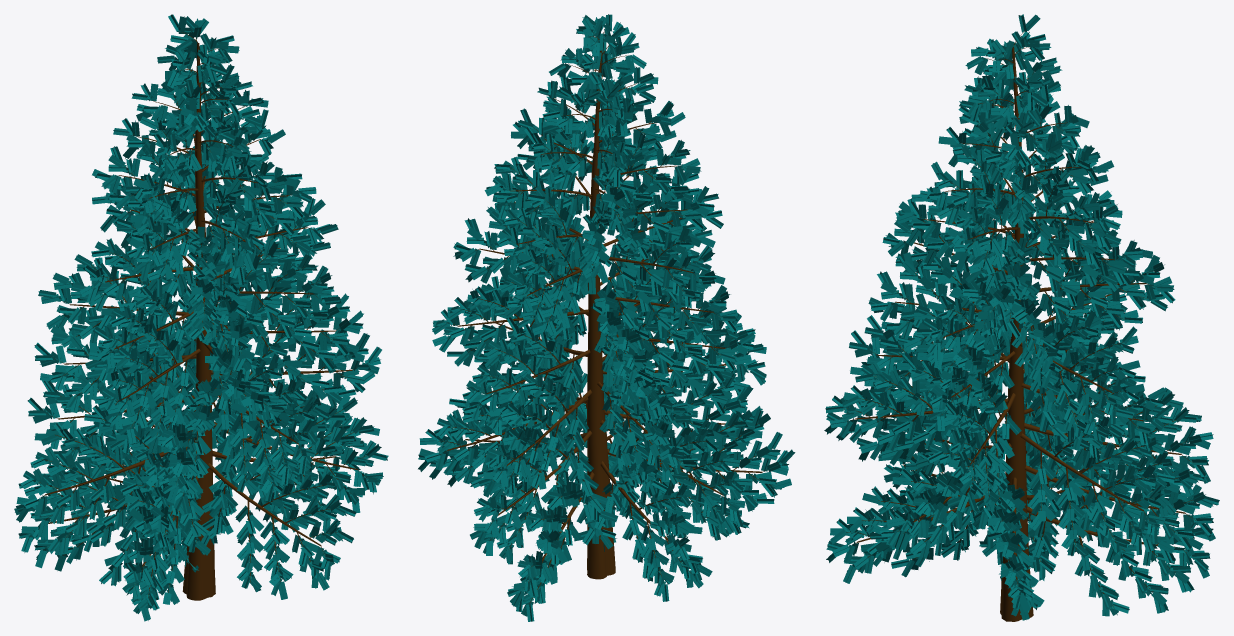
The model's file is Baum5 Neu.FBX.
The picture shows the model from 3 angles, left to right: view 1: azimuth 30°, elevation 25°; view 2: azimuth 150°, elevation 25°; view 3: azimuth 270°, elevation 25°; orthographic projection. The views are drawn at different scales.
Parts seen in each view (by area): view 1: Foliage003; view 2: Foliage003; view 3: Foliage003.
Boxes of the visible parts, left/top/right/bottom form: Foliage003: left=14, top=14, right=388, bottom=621; Foliage003: left=418, top=14, right=795, bottom=621; Foliage003: left=824, top=14, right=1219, bottom=621.
Bounding box in the file's own units: 610 × 1013 × 612.
